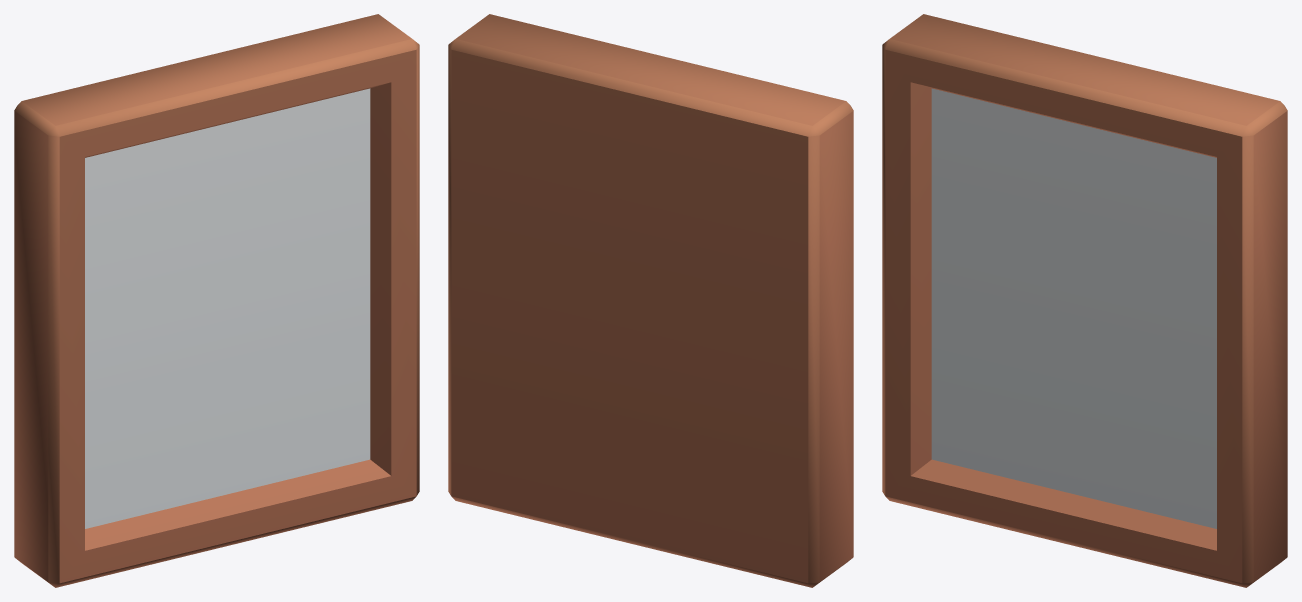
File: furn_picture.glb
3 renders of one model, left to right at view 1: azimuth 30°, elevation 25°; view 2: azimuth 150°, elevation 25°; view 3: azimuth 330°, elevation 25°, orthographic.
Visible parts, largest first — view 1: pictureframe_large_A; view 2: pictureframe_large_A; view 3: pictureframe_large_A.
Part boxes in pixels (<box>): pictureframe_large_A: <box>14,14,419,587</box>; pictureframe_large_A: <box>448,14,853,587</box>; pictureframe_large_A: <box>882,14,1287,587</box>.
Bounding box in the file's own units: 1.01 × 1.2 × 0.2.
Materials: 1 (1 with a texture image).
